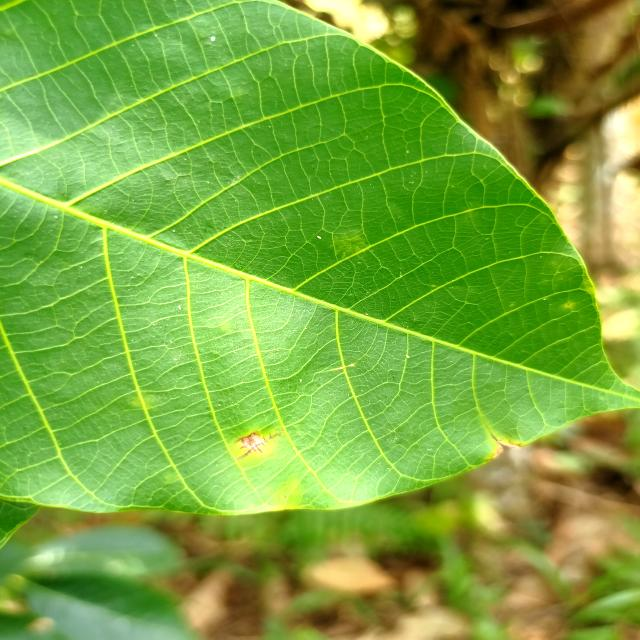Corynespora: (234, 430, 284, 461)
Leaf-Blight: (493, 442, 504, 458), (500, 442, 521, 448)
